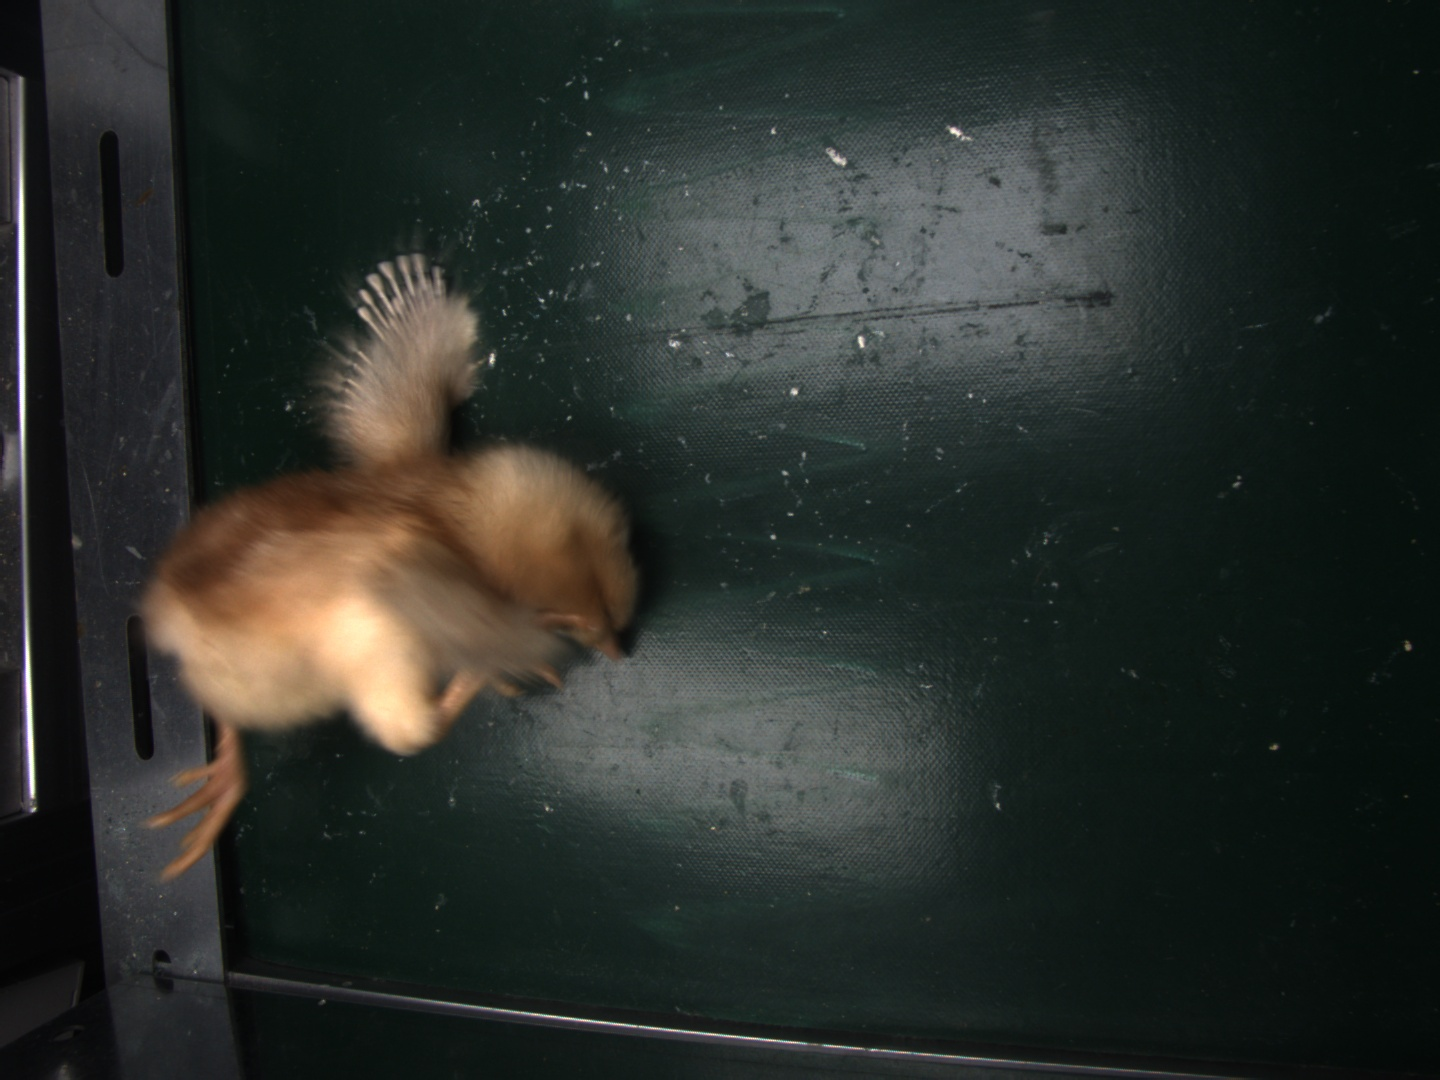female: (358, 254, 444, 338)
